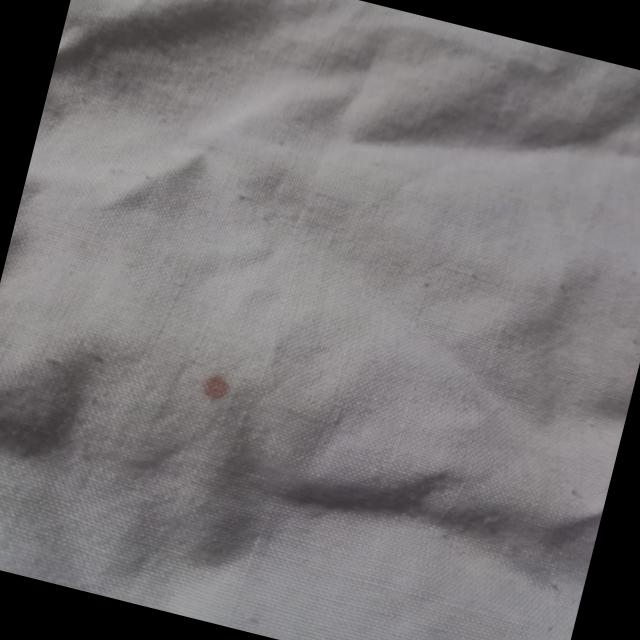stain: (181, 360, 251, 420)
